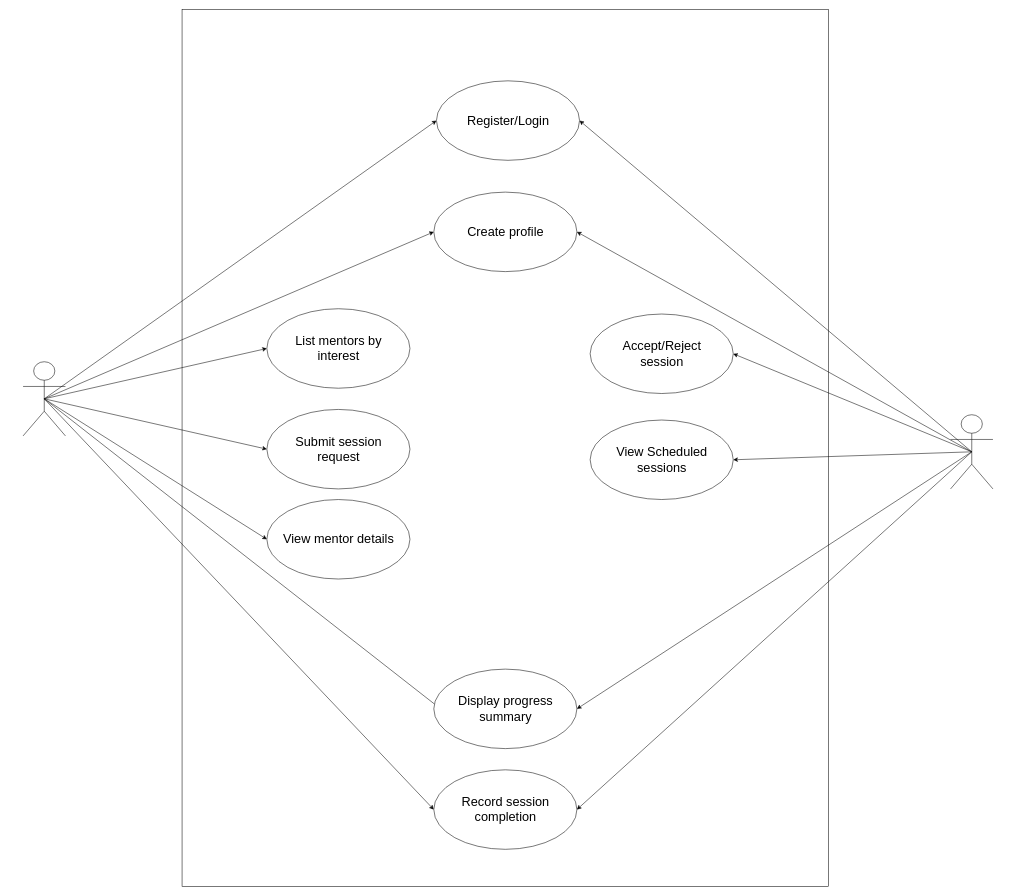
The diagram is 1014 pixels wide and 896 high, and some of its shapes have lost their labels. Each missing label, with the centre of its shape:
Mentee: point (44, 398)
Mentor: point (971, 451)
